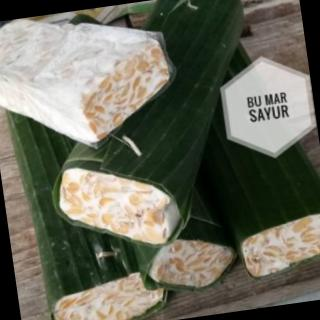Tempe: (1, 1, 184, 163)
